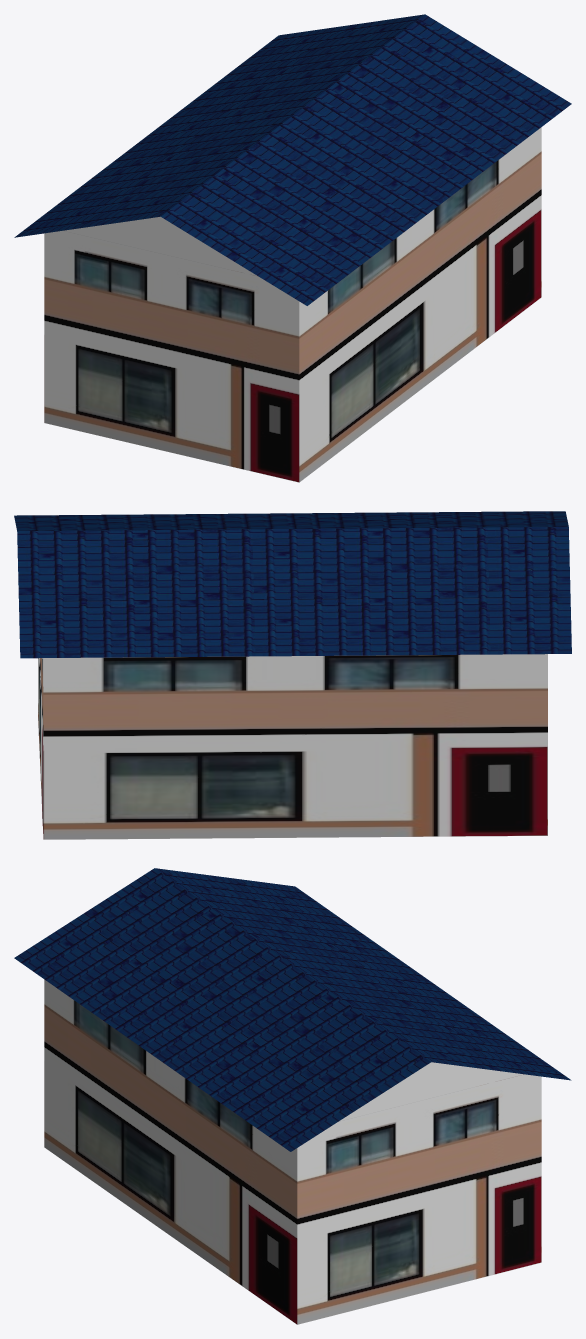
3 renders of one model, top to bottom at view 1: azimuth 30°, elevation 25°; view 2: azimuth 150°, elevation 25°; view 3: azimuth 270°, elevation 25°, orthographic. The views are drawn at different scales.
Parts seen in each view (by area): view 1: CityEngineMaterial_5_m, CityEngineMaterial_6_m, CityEngineMaterial_3_m; view 2: CityEngineMaterial_5_m, CityEngineMaterial_6_m; view 3: CityEngineMaterial_5_m, CityEngineMaterial_6_m, CityEngineMaterial_3_m.
Part boxes in pixels (x1=…): CityEngineMaterial_5_m: x1=44, y1=127, x2=541, y2=482; CityEngineMaterial_6_m: x1=14, y1=14, x2=571, y2=305; CityEngineMaterial_3_m: x1=63, y1=216, x2=256, y2=275; CityEngineMaterial_5_m: x1=38, y1=654, x2=547, y2=839; CityEngineMaterial_6_m: x1=14, y1=511, x2=571, y2=658; CityEngineMaterial_5_m: x1=44, y1=979, x2=541, y2=1324; CityEngineMaterial_6_m: x1=14, y1=868, x2=571, y2=1151; CityEngineMaterial_3_m: x1=339, y1=1062, x2=523, y2=1121.
Bounding box in the file's own units: 27.5 × 11.57 × 24.41.
